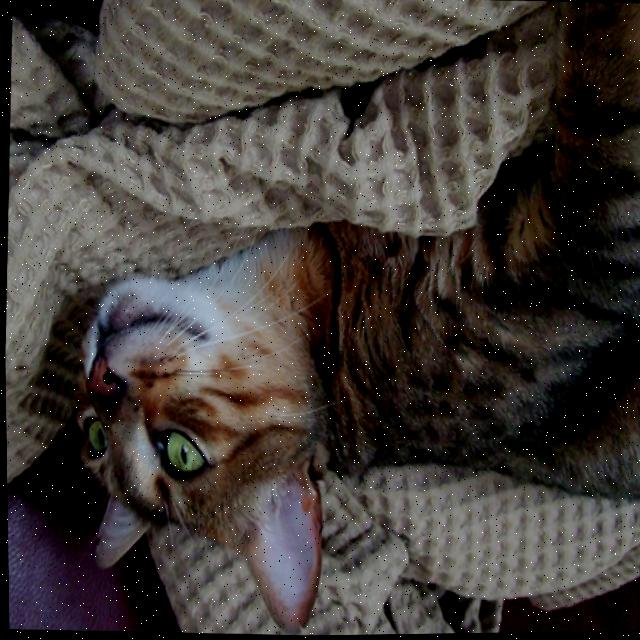Egyptian Mau: (53, 0, 640, 639)
